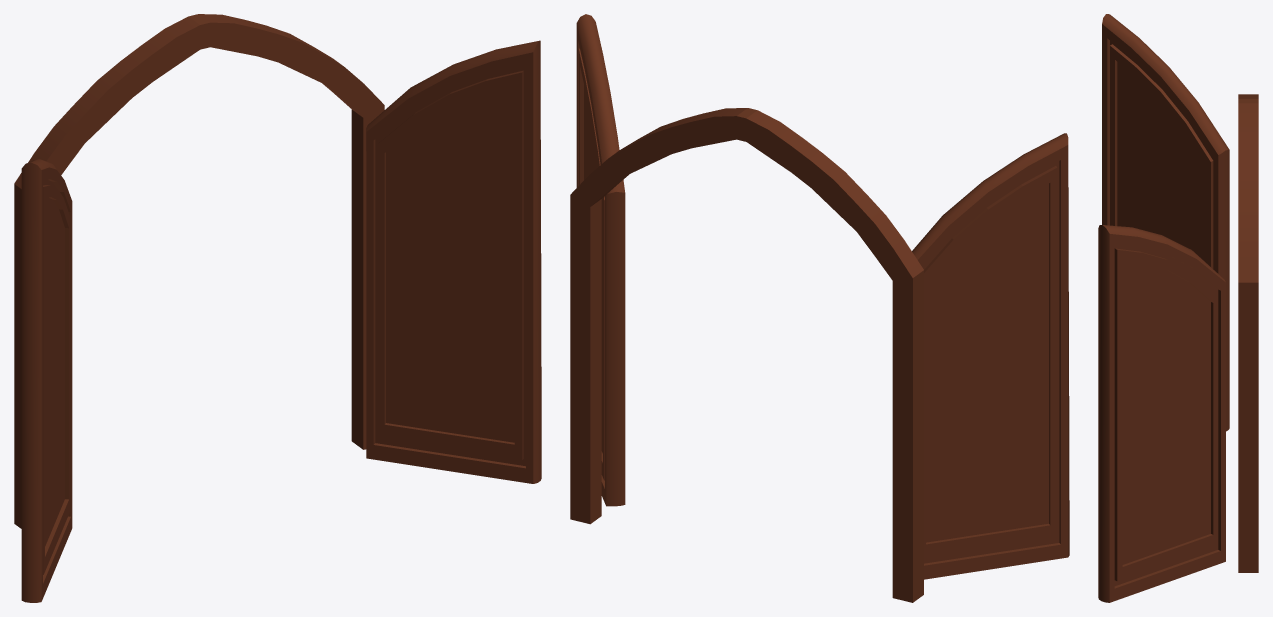
File: doa1.fbx
The picture shows the model from 3 angles, left to right: view 1: azimuth 30°, elevation 25°; view 2: azimuth 150°, elevation 25°; view 3: azimuth 270°, elevation 25°; orthographic projection. The views are drawn at different scales.
Visible parts, largest first — view 1: pCube2, pCube3, pCube1; view 2: pCube1, pCube3, pCube2; view 3: pCube2, pCube1, pCube3.
Part boxes in pixels (<box>): pCube2: <box>366,40,541,483</box>; pCube3: <box>14,14,384,528</box>; pCube1: <box>21,159,72,602</box>; pCube1: <box>912,133,1069,579</box>; pCube3: <box>570,108,923,602</box>; pCube2: <box>576,14,625,506</box>; pCube2: <box>1098,225,1225,602</box>; pCube1: <box>1102,14,1229,431</box>; pCube3: <box>1238,94,1258,572</box>.
Size of the model in its own units: 25.28 by 21.73 by 7.94.
